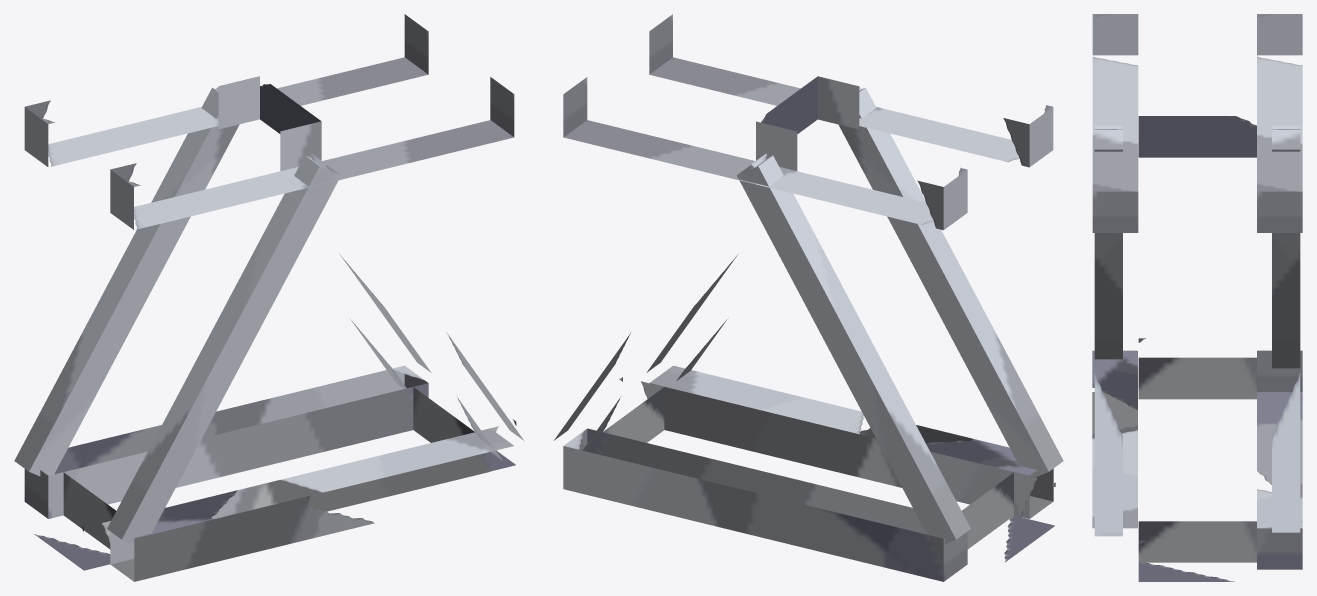
Rendered from overhead_truss_double.obj.
3 views of the same model, side by side, from view 1: azimuth 30°, elevation 25°; view 2: azimuth 150°, elevation 25°; view 3: azimuth 270°, elevation 25° (orthographic). The views are drawn at different scales.
Visible parts, largest first — view 1: steel_pole; view 2: steel_pole; view 3: steel_pole.
Part boxes in pixels (x1,y1,x2,y2): steel_pole: [14, 14, 523, 581]; steel_pole: [554, 14, 1063, 581]; steel_pole: [1092, 14, 1302, 581].
Size of the model in its own units: 1.14 by 0.9925 by 0.5.
